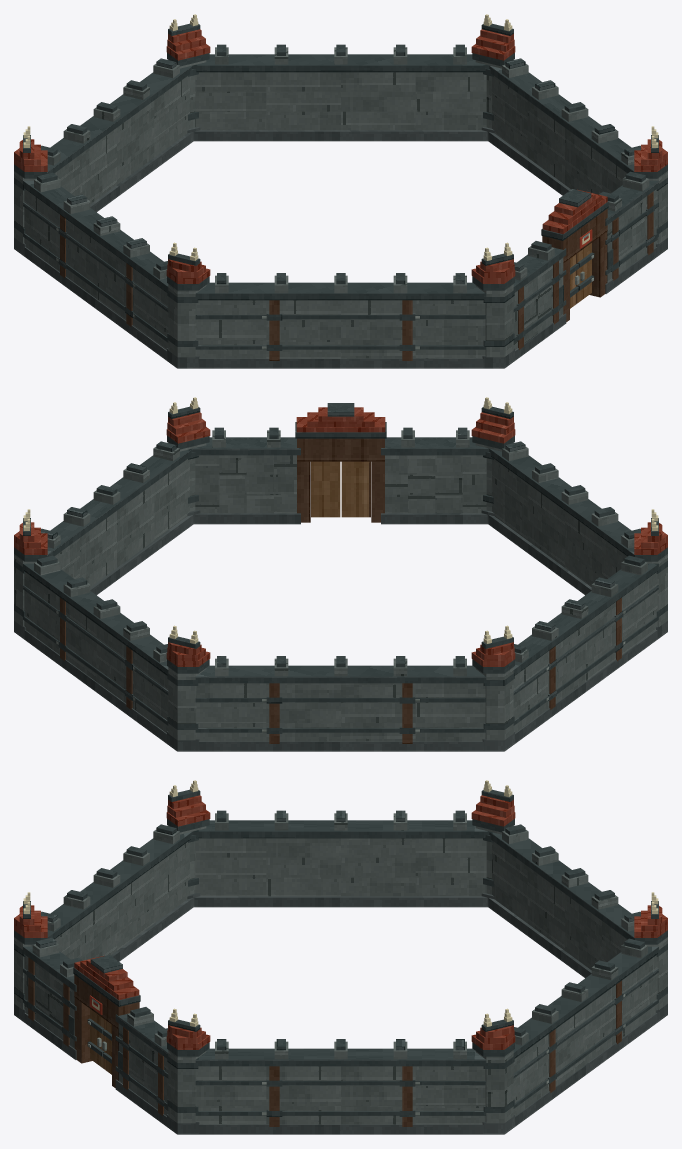
The model's file is orc_walls_level_3_hex_v1.glb.
The picture shows the model from 3 angles, top to bottom: view 1: azimuth 30°, elevation 25°; view 2: azimuth 150°, elevation 25°; view 3: azimuth 270°, elevation 25°; orthographic projection.
Visible parts, largest first — view 1: Orc_Walls_Level_3_Hex_V1_Architecture; view 2: Orc_Walls_Level_3_Hex_V1_Architecture; view 3: Orc_Walls_Level_3_Hex_V1_Architecture.
Boxes of the visible parts, x1,y1,x2,y2 form: Orc_Walls_Level_3_Hex_V1_Architecture: (14, 14, 667, 368); Orc_Walls_Level_3_Hex_V1_Architecture: (14, 397, 667, 751); Orc_Walls_Level_3_Hex_V1_Architecture: (14, 780, 667, 1134).
Bounding box in the file's own units: 1.71 × 0.39 × 1.97.
1 material, 1 textured.
